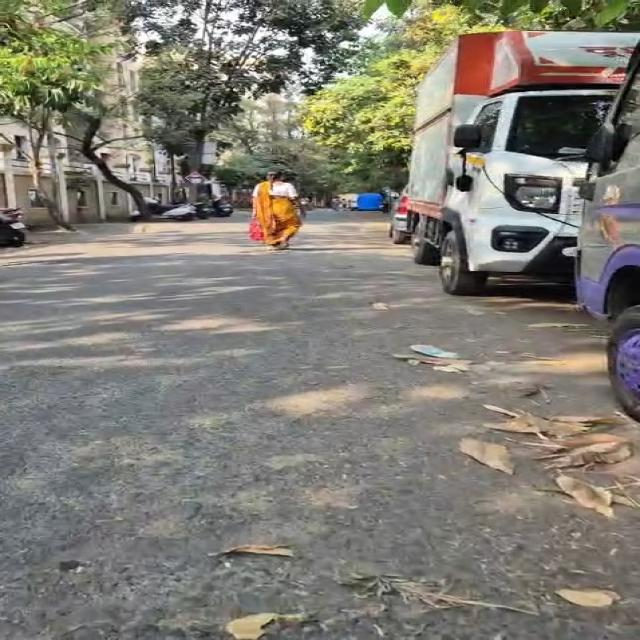obstacle: (406, 31, 638, 295), (81, 116, 148, 219), (29, 116, 74, 231), (84, 150, 148, 219), (30, 160, 76, 231), (188, 131, 206, 173), (169, 153, 176, 202)
person: (254, 170, 301, 249)
vehical: (145, 198, 195, 220), (0, 208, 26, 246), (196, 198, 232, 219), (212, 198, 232, 216)
